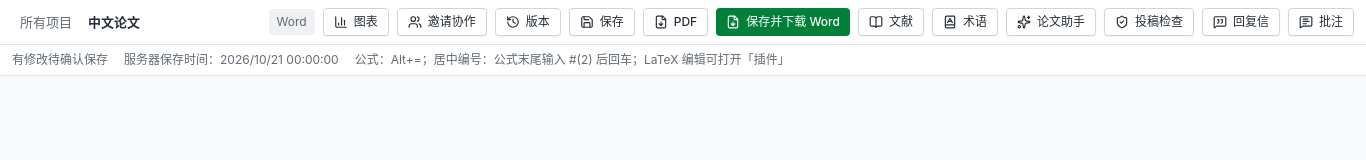
Word 工作台 › 脏稿的旧错误允许通过新请求重试，成功后才清待确认标记
Click the button with test id "word-save": (602, 22) x1=569 y1=8 x2=635 y2=36
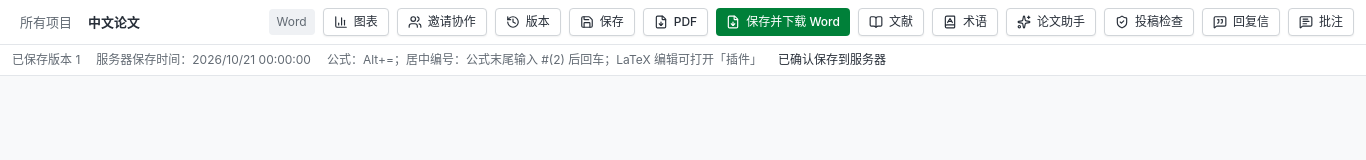
Check: the text "已确认保存到服务器" is shown, box x1=778 y1=51 x2=886 y2=69
Check: the text "有修改待确认保存" is gone
